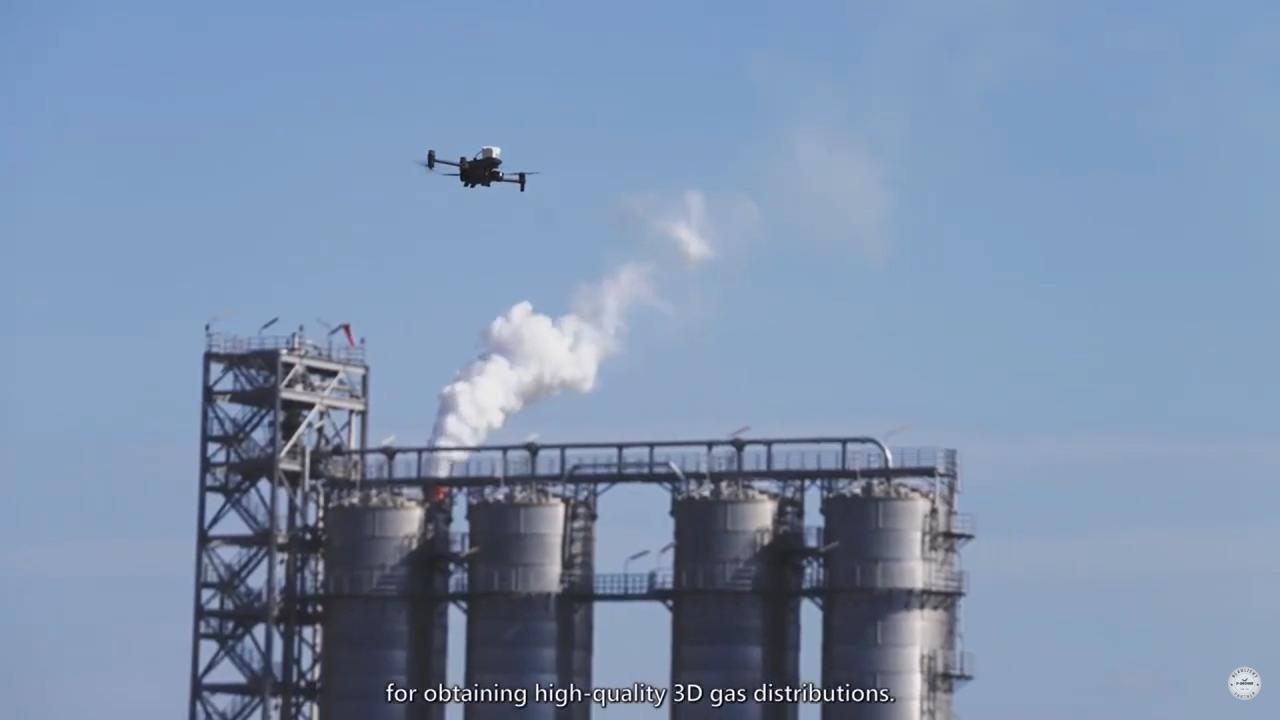Drone: (401, 130, 558, 204)
